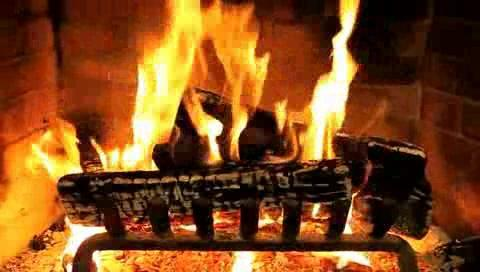fire: (9, 0, 480, 182)
